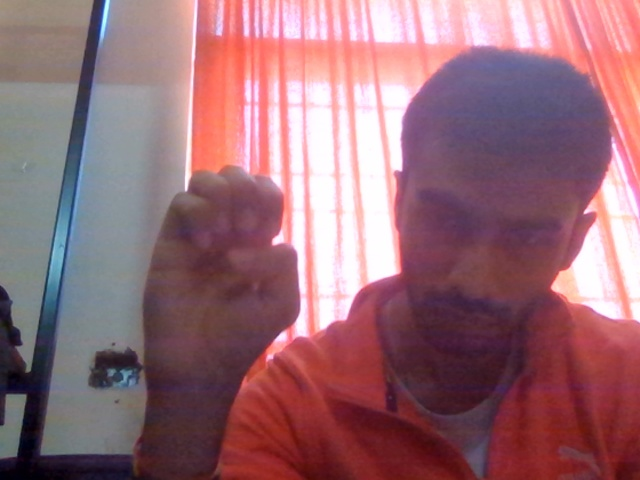E: (123, 148, 346, 475)
